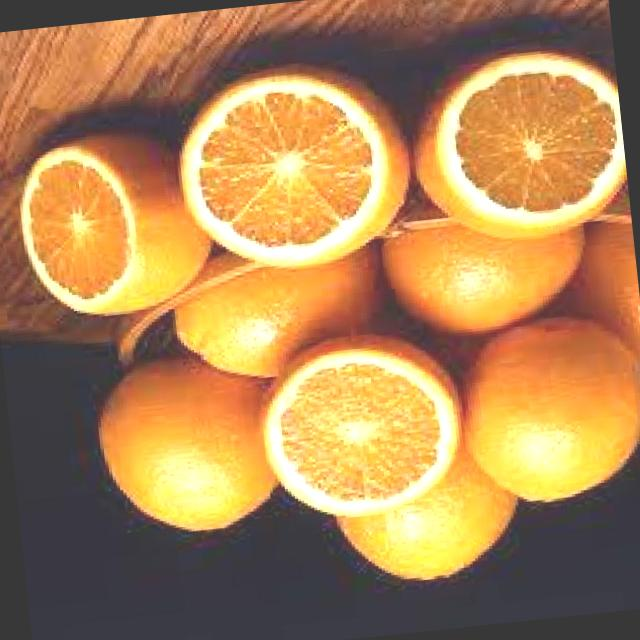Orange: (168, 52, 422, 282), (404, 41, 632, 253), (255, 325, 472, 528), (13, 122, 220, 326), (453, 307, 640, 512), (92, 348, 286, 542), (377, 187, 596, 345), (168, 238, 390, 388), (330, 437, 528, 591), (563, 223, 640, 365)
